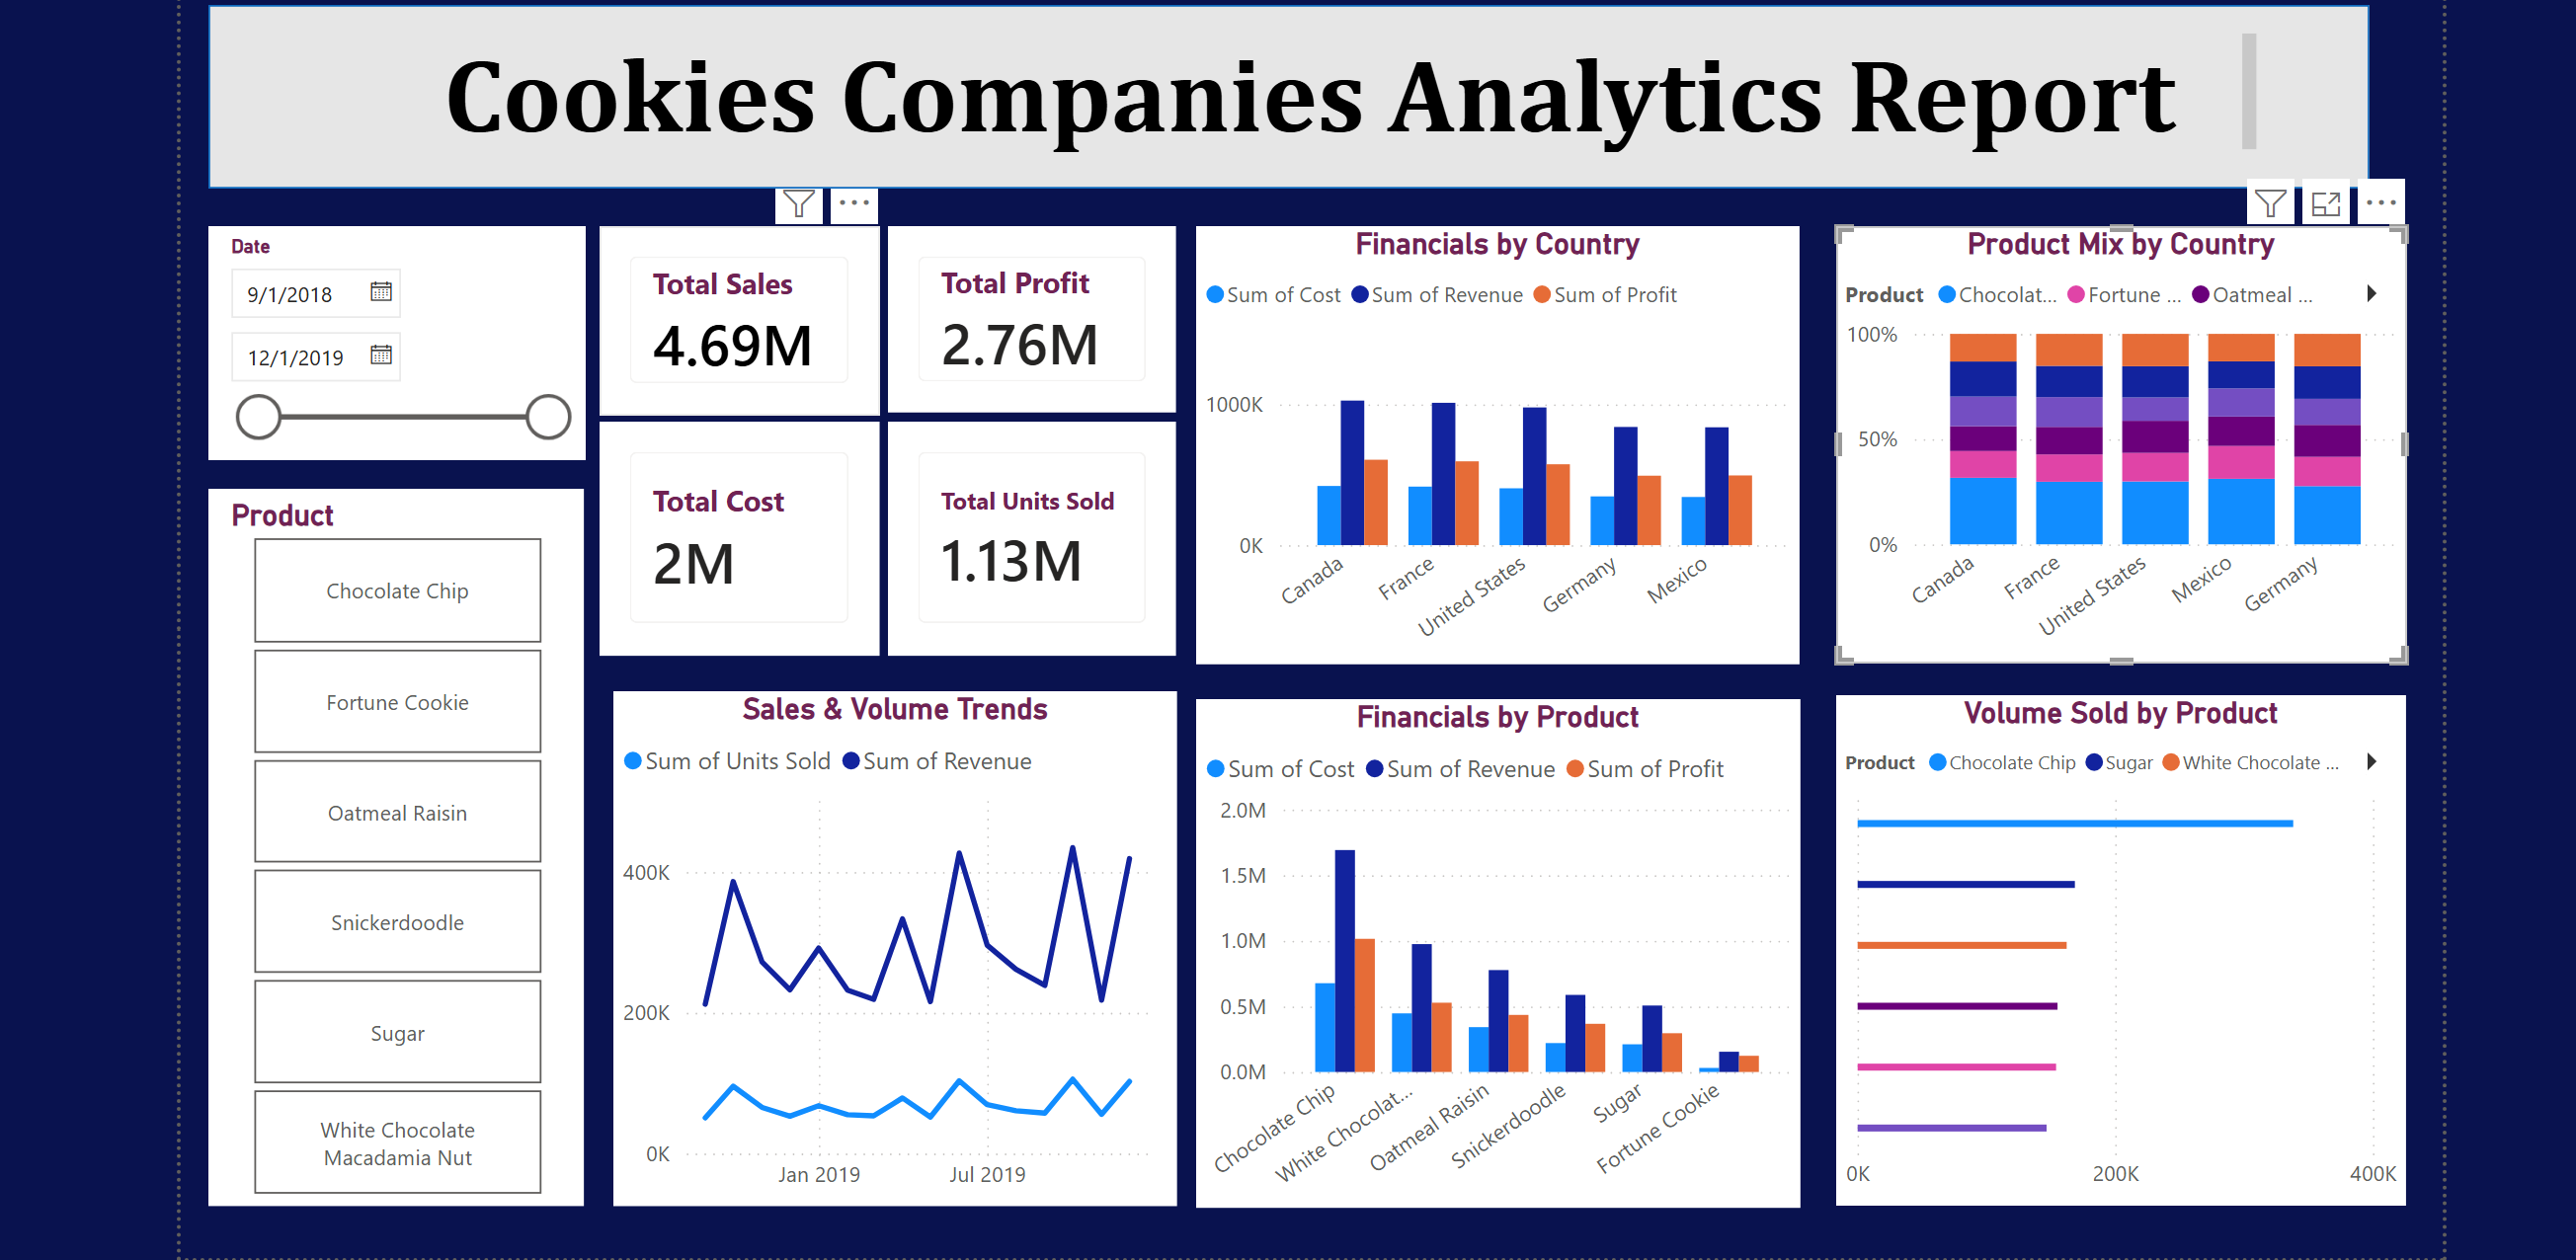

Layout of this report page (visuals, bound fields, positions):
{"tool":"powerbi","page":{"name":"Page 1","canvas":[1280,720],"ordinal":0},"visuals":[{"type":"cardVisual","fields":{"Data":["Sum(Cookie Sales.Units Sold)"]},"box":[400.7,247.1,163.1,132],"z":0},{"type":"cardVisual","fields":{"Data":["Sum(Cookie Sales.Revenue)"]},"box":[237.5,136.8,158.4,106.8],"z":1000},{"type":"cardVisual","fields":{"Data":["Sum(Cookie Sales.Profit)"]},"box":[400.7,136.8,163.1,105.6],"z":2000},{"type":"clusteredColumnChart","title":"Financials by Country","fields":{"Category":["Cookie Sales.Country"],"Y":["Sum(Cookie Sales.Cost)","Sum(Cookie Sales.Revenue)","Sum(Cookie Sales.Profit)"]},"box":[574.4,136.2,341.7,247.6],"z":3000},{"type":"clusteredBarChart","title":"Volume Sold by Product","fields":{"Category":["Cookie Sales.Product"],"Y":["Sum(Cookie Sales.Units Sold)"],"Series":["Cookie Sales.Product"]},"box":[936.9,401.9,322.7,289.1],"z":4000},{"type":"clusteredColumnChart","title":"Financials by Product","fields":{"Y":["Sum(Cookie Sales.Cost)","Sum(Cookie Sales.Revenue)","Sum(Cookie Sales.Profit)"],"Category":["Cookie Sales.Product"]},"box":[574.6,403.1,341.9,287.9],"z":5000},{"type":"lineChart","title":"Sales & Volume Trends","fields":{"Y":["Sum(Cookie Sales.Units Sold)","Sum(Cookie Sales.Revenue)"],"Category":["Cookie Sales.Date.Variation.Date Hierarchy.Year","Cookie Sales.Date.Variation.Date Hierarchy.Month"]},"box":[244.7,399.5,319.1,291.5],"z":6000},{"type":"hundredPercentStackedColumnChart","title":"Product Mix by Country","fields":{"Category":["Cookie Sales.Country"],"Y":["Sum(Cookie Sales.Units Sold)"],"Series":["Cookie Sales.Product"]},"box":[936.9,136.8,322.7,247.1],"z":7000},{"type":"cardVisual","fields":{"Data":["Sum(Cookie Sales.Cost)"]},"box":[237.5,247.1,158.4,132],"z":8000},{"type":"shape","box":[16.1,11.1,1223.1,104],"z":9000},{"type":"textbox","box":[106.5,22.3,1073.3,76.8],"z":10000},{"type":"slicer","fields":{"Values":["Cookie Sales.Product"]},"box":[15.6,285.5,212.3,405.5],"z":10001},{"type":"slicer","fields":{"Values":["Cookie Sales.Date"]},"box":[15.6,136.8,213.5,132],"z":10002}]}

Visuals, with their boxes in screenshot pixels (x1, y1, x2, y2):
cardVisual - Sum(Cookie Sales.Units Sold): left=879, top=416, right=1170, bottom=652
cardVisual - Sum(Cookie Sales.Revenue): left=587, top=218, right=870, bottom=410
cardVisual - Sum(Cookie Sales.Profit): left=879, top=218, right=1170, bottom=407
"Financials by Country" clusteredColumnChart: left=1189, top=217, right=1802, bottom=661
"Volume Sold by Product" clusteredBarChart: left=1839, top=693, right=2417, bottom=1211
"Financials by Product" clusteredColumnChart: left=1190, top=695, right=1803, bottom=1211
"Sales & Volume Trends" lineChart: left=600, top=688, right=1170, bottom=1211
"Product Mix by Country" hundredPercentStackedColumnChart: left=1839, top=218, right=2417, bottom=661
cardVisual - Sum(Cookie Sales.Cost): left=587, top=416, right=870, bottom=652
shape: left=190, top=0, right=2380, bottom=180
textbox: left=352, top=13, right=2274, bottom=151
slicer - Cookie Sales.Product: left=189, top=484, right=569, bottom=1211
slicer - Cookie Sales.Date: left=189, top=218, right=571, bottom=454
